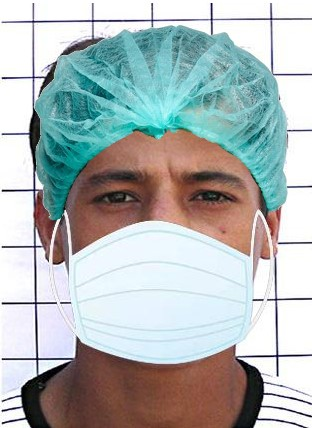with_mask_and_cap: (38, 25, 286, 366)
